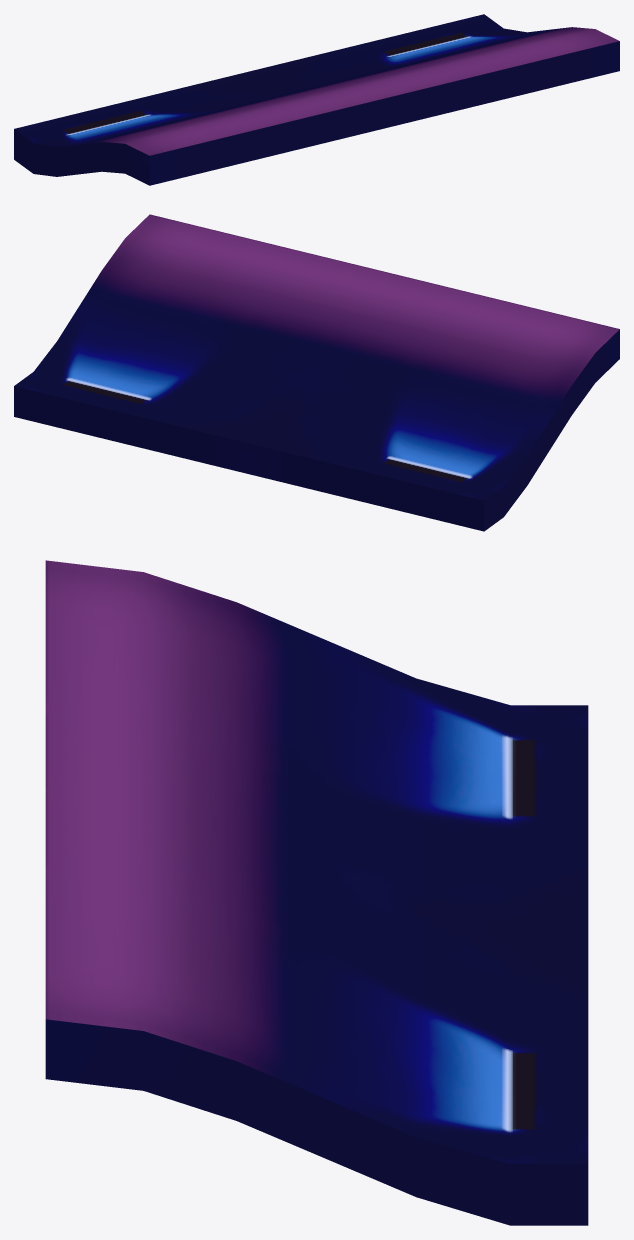
Rendered from urban_low_slope.gltf.
3 views of the same model, one above another, from view 1: azimuth 30°, elevation 25°; view 2: azimuth 150°, elevation 25°; view 3: azimuth 270°, elevation 25° (orthographic). The views are drawn at different scales.
Parts seen in each view (by area): view 1: urban_low_slope_glb; view 2: urban_low_slope_glb; view 3: urban_low_slope_glb.
Part boxes in pixels (x1,y1,x2,y2): urban_low_slope_glb: (14, 14, 619, 185); urban_low_slope_glb: (14, 214, 619, 531); urban_low_slope_glb: (45, 560, 588, 1225).
Size of what is drawn, in the model's own units: 4 by 0.8385 by 2.
Materials: 1 (1 with a texture image).
